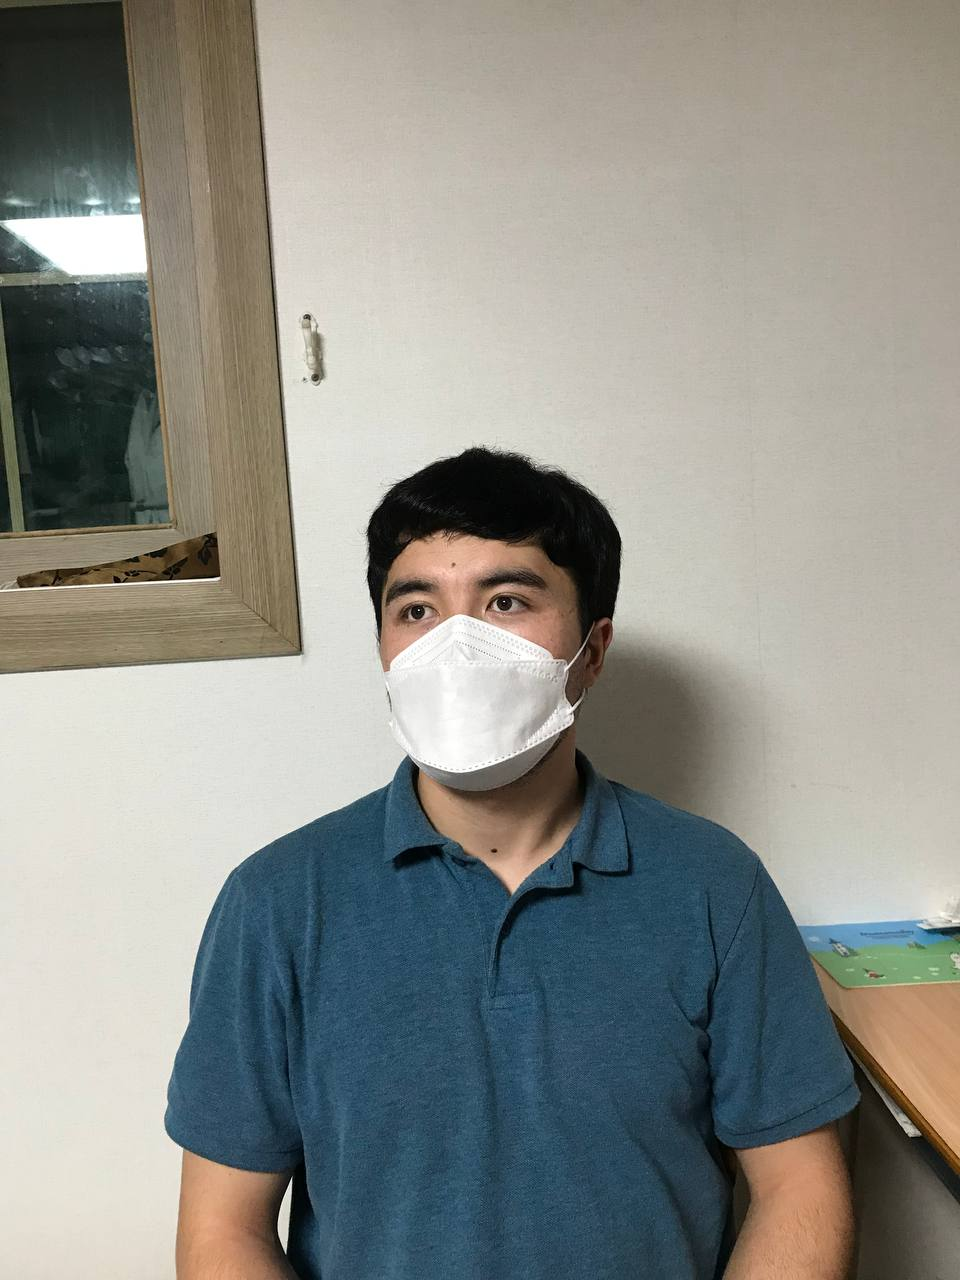Mask: (372, 619, 610, 797)
